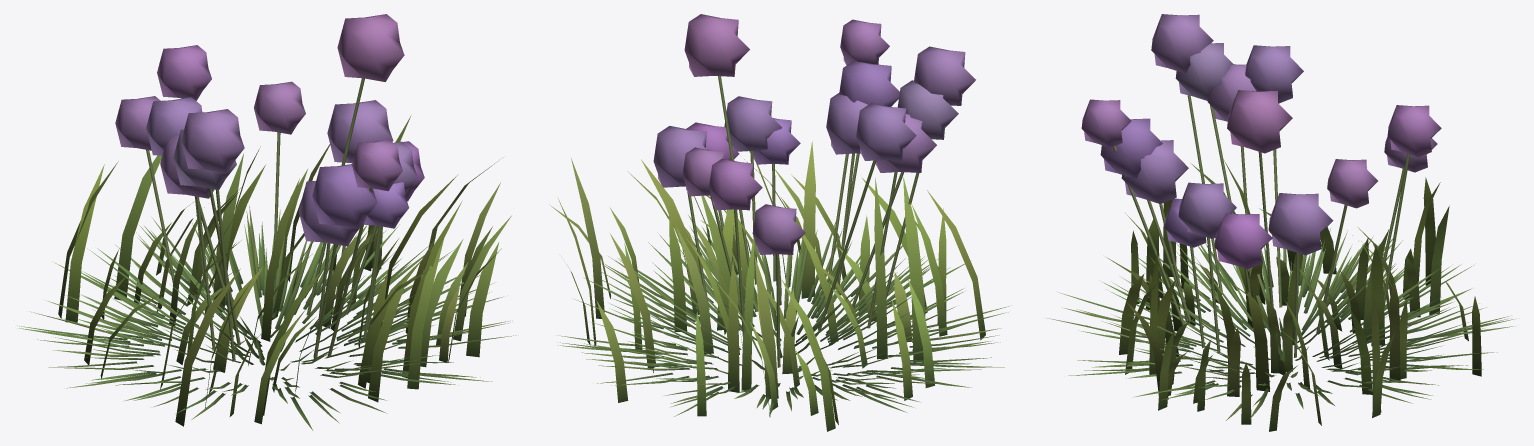
The model's file is eco_flower_violet_cushion_LOD0.glb.
The picture shows the model from 3 angles, left to right: view 1: azimuth 30°, elevation 25°; view 2: azimuth 150°, elevation 25°; view 3: azimuth 270°, elevation 25°; orthographic projection. The views are drawn at different scales.
Visible parts, largest first — view 1: eco_flower_violet_cushion_LOD0; view 2: eco_flower_violet_cushion_LOD0; view 3: eco_flower_violet_cushion_LOD0.
Boxes of the visible parts, x1,y1,x2,y2 form: eco_flower_violet_cushion_LOD0: (17,14,516,430); eco_flower_violet_cushion_LOD0: (549,14,1009,431); eco_flower_violet_cushion_LOD0: (1047,14,1516,431).
Bounding box in the file's own units: 0.4104 × 0.2667 × 0.3944.
